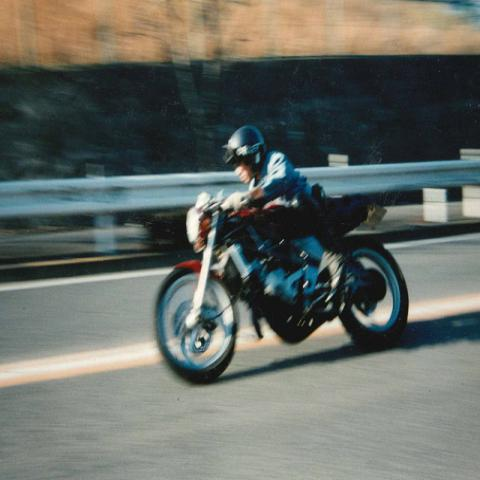motorcycle: (155, 198, 405, 372)
